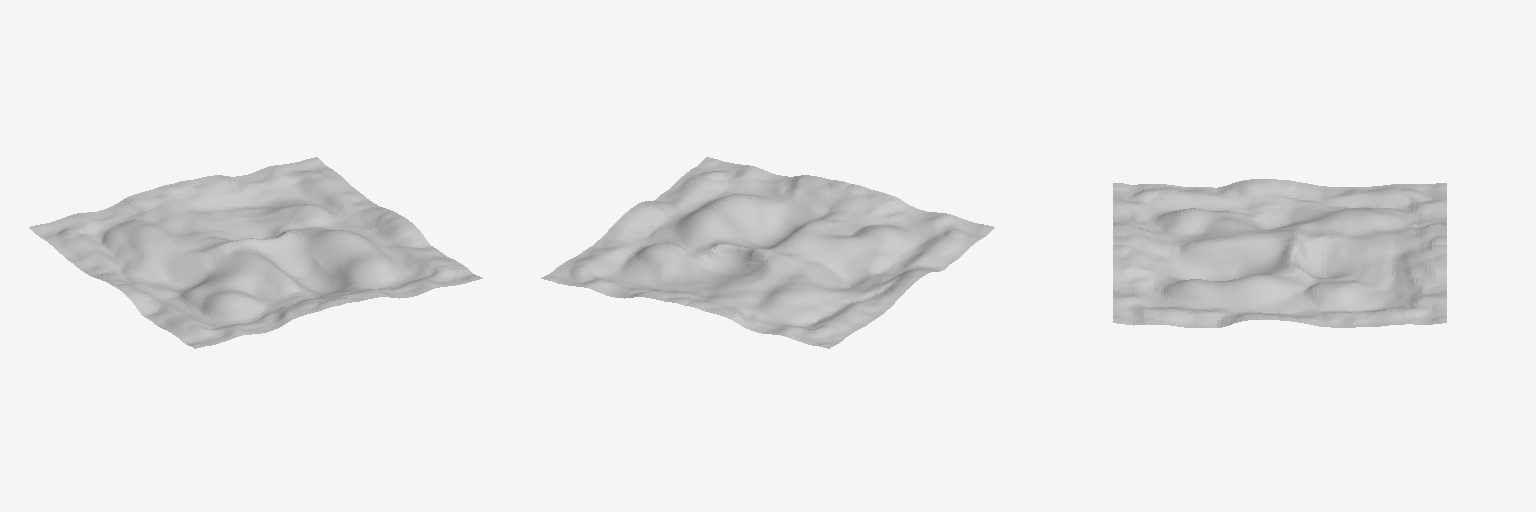
File: ground_model8.obj
The picture shows the model from 3 angles: view 1: azimuth 30°, elevation 25°; view 2: azimuth 150°, elevation 25°; view 3: azimuth 270°, elevation 25°; orthographic projection.
Parts seen in each view (by area): view 1: pPlane21; view 2: pPlane21; view 3: pPlane21.
Part boxes in pixels (bbox=[...]): pPlane21: bbox=[29, 157, 482, 348]; pPlane21: bbox=[541, 157, 994, 348]; pPlane21: bbox=[1113, 179, 1446, 327].
Bounding box in the file's own units: 248 × 22 × 248.